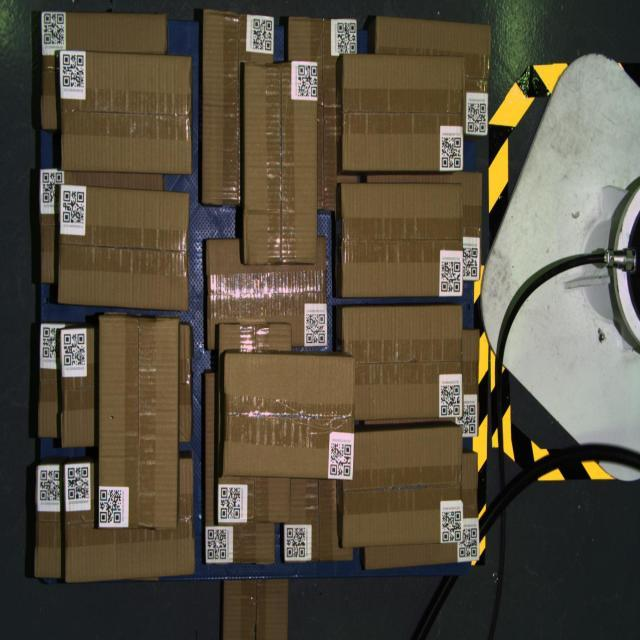box: (98, 316, 178, 530), (58, 184, 190, 311), (223, 354, 355, 481), (60, 50, 192, 174), (244, 62, 318, 264), (343, 427, 463, 547), (342, 54, 464, 170), (342, 305, 464, 420), (341, 184, 463, 298)
